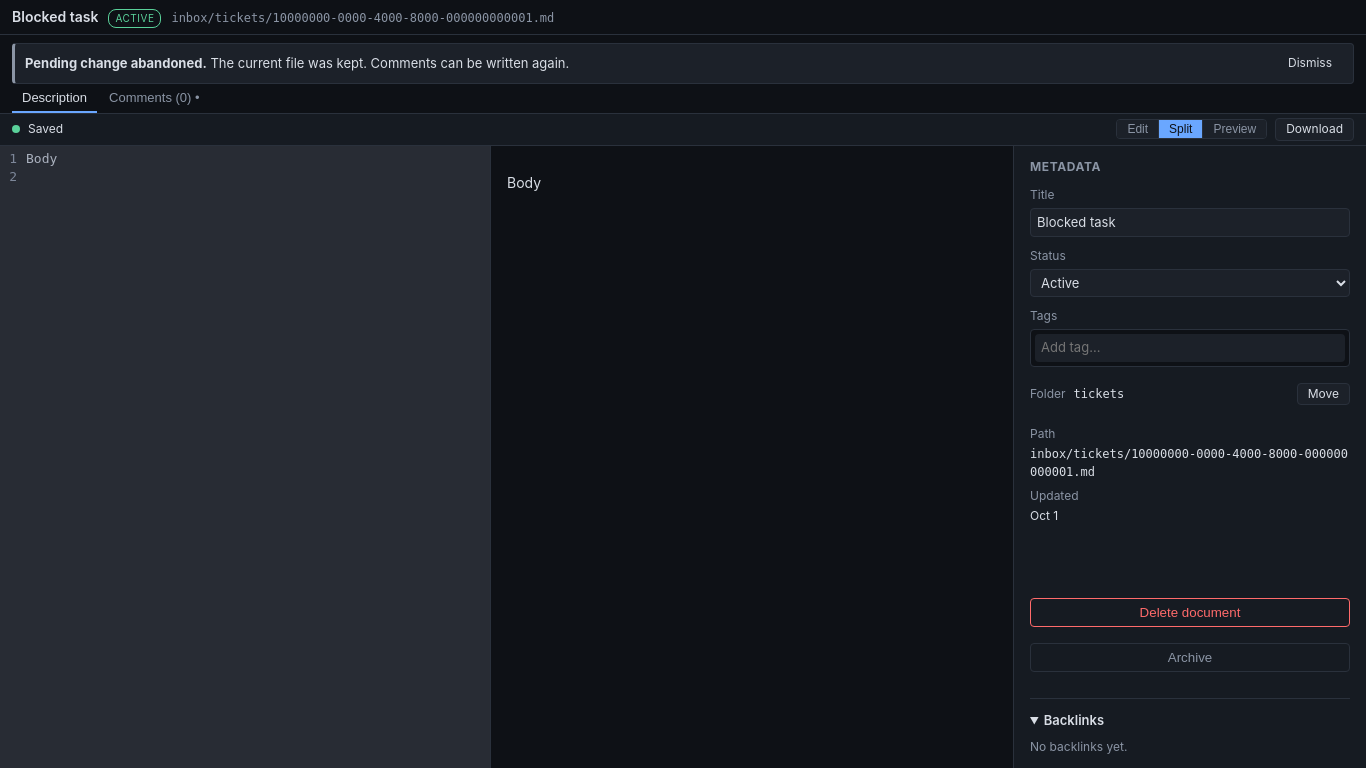
Task workspace › an abandoned change shows a dismissible notice; dismissing it takes the entry off
The image size is (1366, 768).
Expected: the element named "Recovery" shows "Pending change abandoned. The current file was kept.", [12,43,1354,84]
Click the tab "Comments (0) •".
click(154, 98)  # box [99,84,210,113]
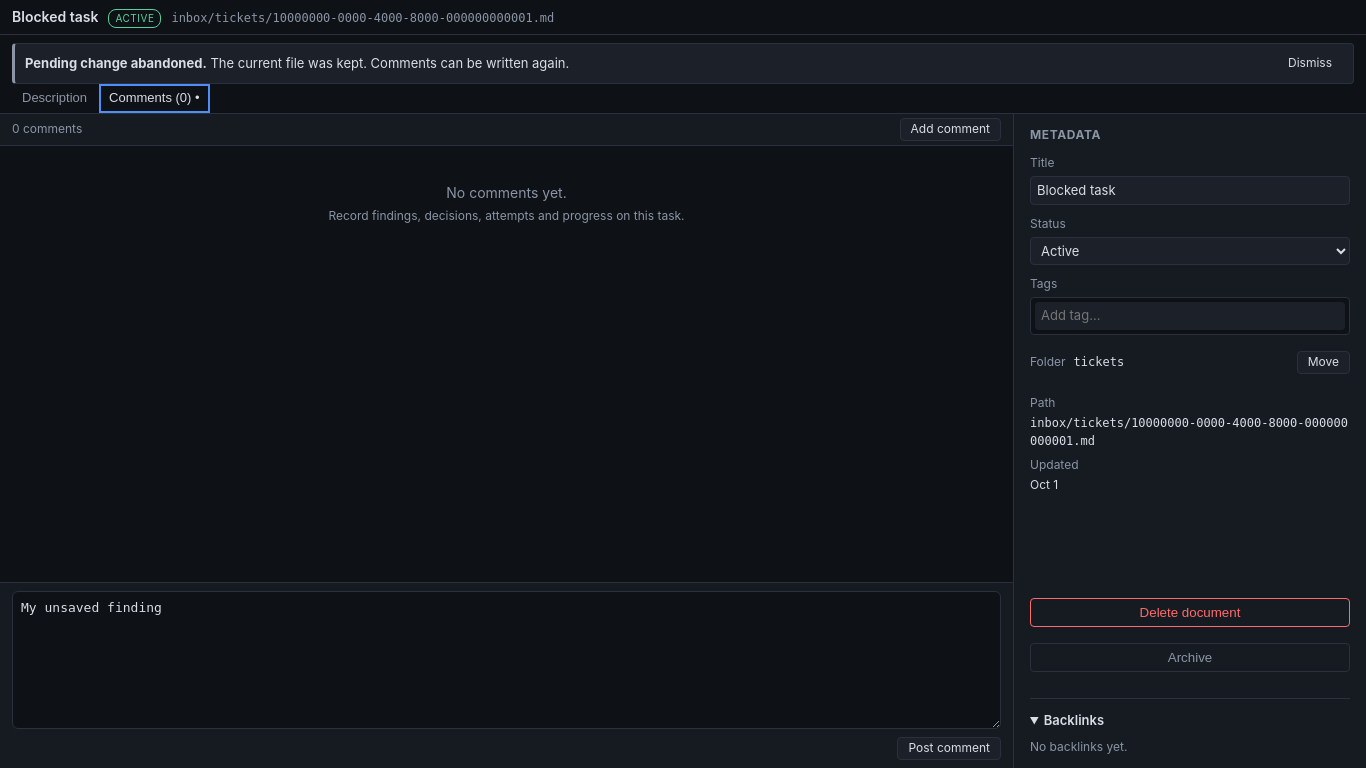
Expected: the text box named "New comment" is enabled, [12,591,1001,729]
Click the button "Dismiss".
click(1310, 63)  # box [1277,52,1343,75]
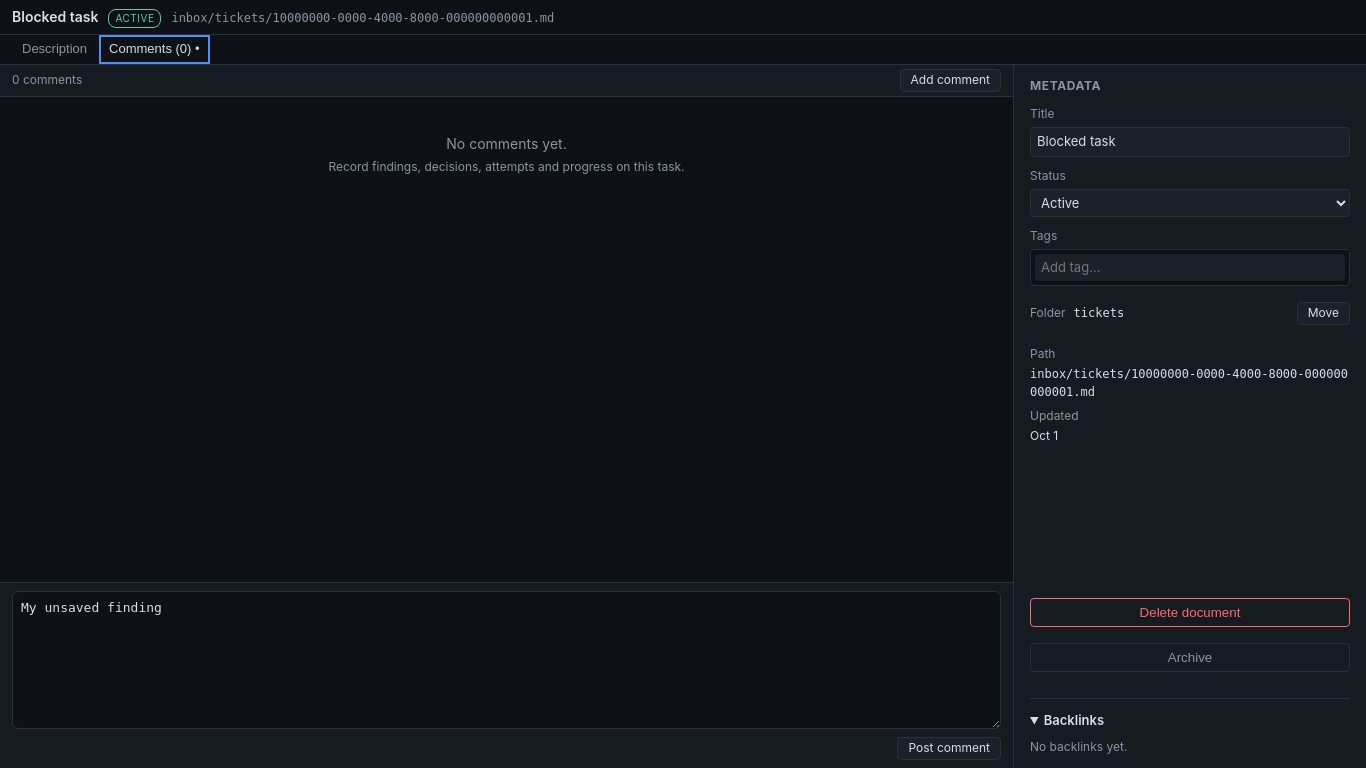
Expected: the element "Recovery" is gone
